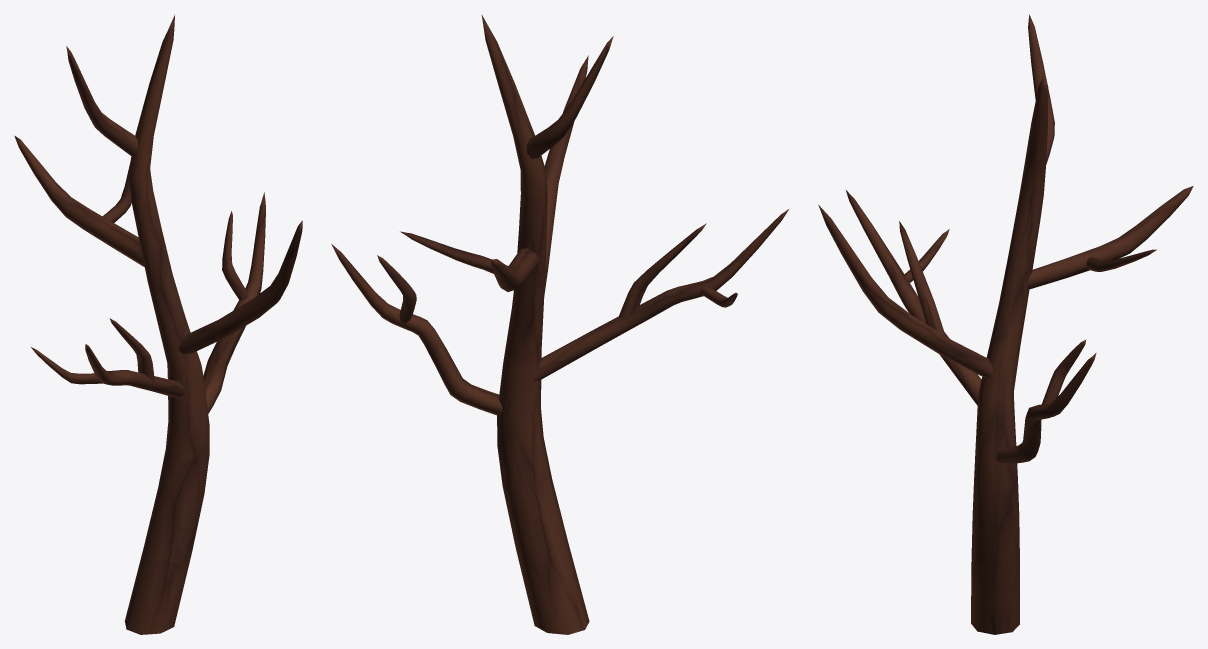
File: dead_tree_5.glb
3 views of the same model, side by side, from view 1: azimuth 30°, elevation 25°; view 2: azimuth 150°, elevation 25°; view 3: azimuth 270°, elevation 25° (orthographic). The views are drawn at different scales.
Visible parts, largest first — view 1: DeadTree_52; view 2: DeadTree_52; view 3: DeadTree_52.
Boxes of the visible parts, bbox=[...] form: DeadTree_52: bbox=[14, 15, 302, 634]; DeadTree_52: bbox=[331, 14, 788, 634]; DeadTree_52: bbox=[818, 14, 1193, 634].
Size of the model in its own units: 1.44 by 2.6 by 1.53.
Materials: 1 (1 with a texture image).
